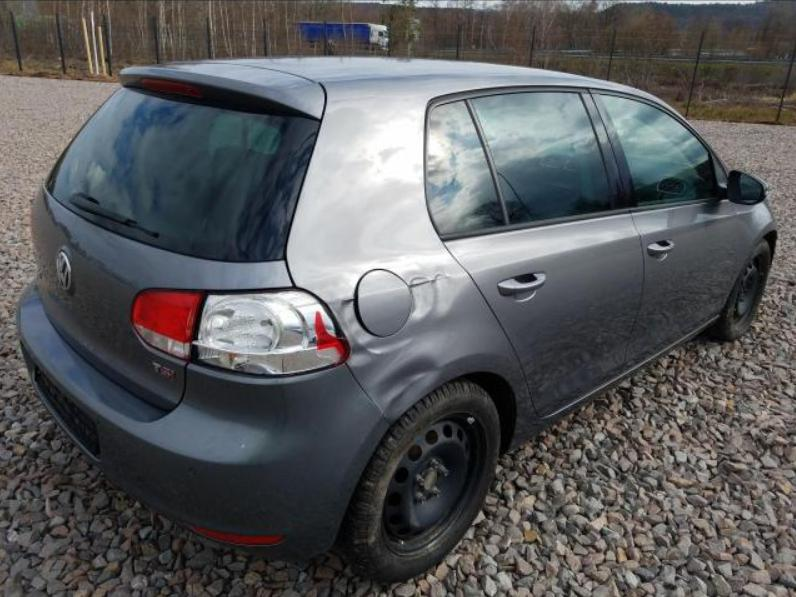Back-bumper: (15, 278, 390, 562)
Back-door: (424, 85, 644, 416)
Back-wheel: (341, 380, 501, 583)
Back-window: (472, 93, 614, 223), (427, 100, 508, 234)
Back-windshield: (45, 81, 319, 261)
Fender: (736, 200, 777, 257)
Front-door: (587, 88, 748, 372)
Front-wheel: (710, 239, 771, 341)
Front-window: (600, 93, 715, 206)
License-plate: (36, 366, 96, 456)
Mirror: (710, 150, 768, 206)
Quarter-panel: (287, 233, 540, 432)
Rocker-panel: (503, 314, 722, 455)
Roof: (170, 56, 660, 104)
Tail-light: (188, 286, 347, 377), (131, 292, 201, 361)
Trunk: (31, 185, 293, 412), (119, 63, 324, 119)
